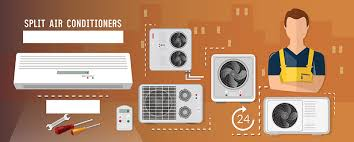ac: (11, 48, 135, 95)
